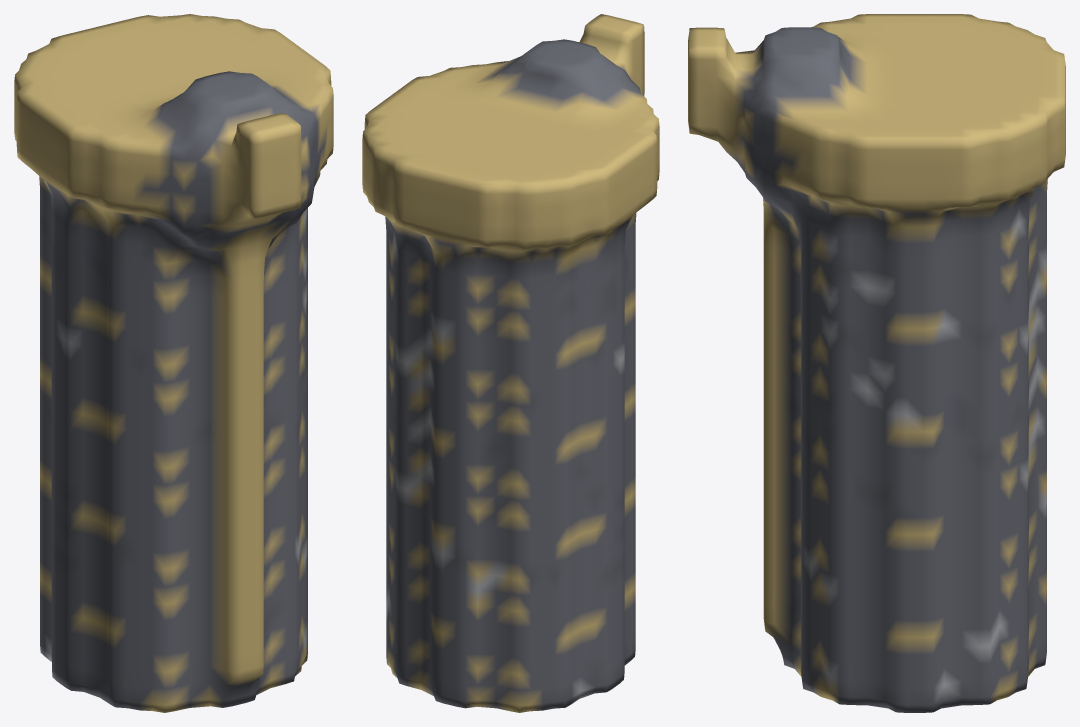
The model's file is plate_legendary_boot_shin_L.glb.
The picture shows the model from 3 angles, left to right: view 1: azimuth 30°, elevation 25°; view 2: azimuth 150°, elevation 25°; view 3: azimuth 270°, elevation 25°; orthographic projection. The views are drawn at different scales.
Visible parts, largest first — view 1: plate_legendary_boot_shin_L; view 2: plate_legendary_boot_shin_L; view 3: plate_legendary_boot_shin_L.
Part boxes in pixels (x1,y1,x2,y2): plate_legendary_boot_shin_L: [14, 14, 333, 712]; plate_legendary_boot_shin_L: [362, 14, 659, 712]; plate_legendary_boot_shin_L: [688, 14, 1065, 712].
Size of the model in its own units: 0.192 by 0.432 by 0.24.
